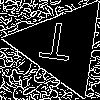T: (36, 21, 75, 70)
